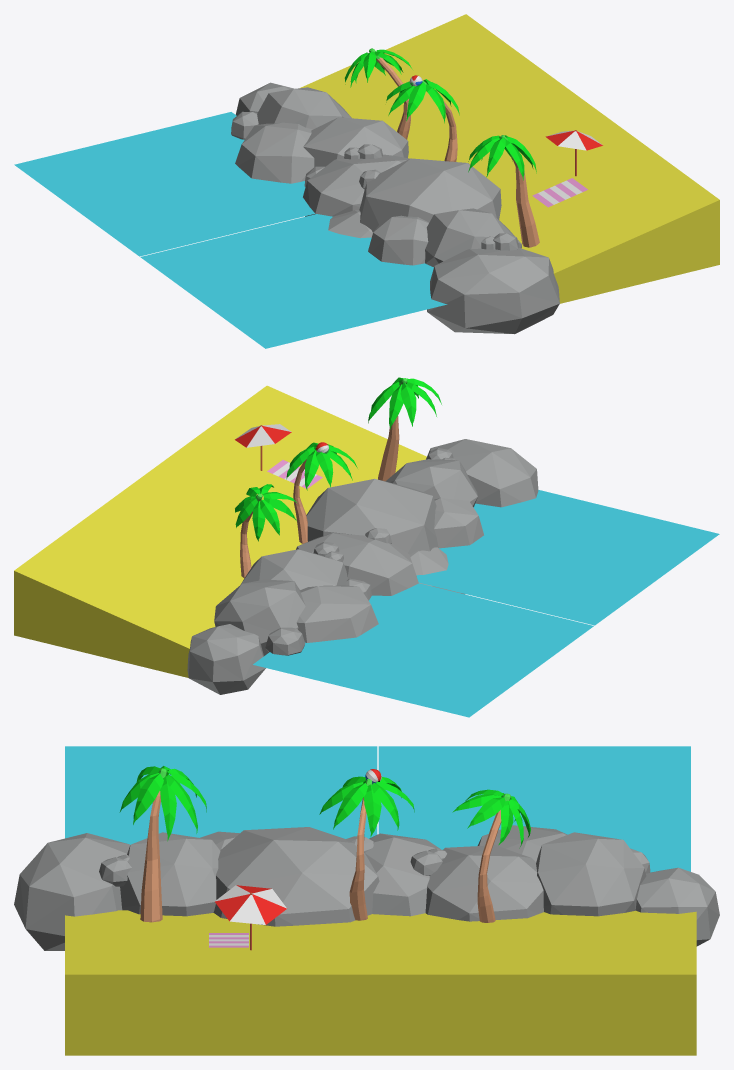
The model's file is shaderAssignmentAssets.fbx.
3 views of the same model, one above another, from view 1: azimuth 30°, elevation 25°; view 2: azimuth 150°, elevation 25°; view 3: azimuth 270°, elevation 25° (orthographic). The views are drawn at different scales.
Parts seen in each view (by area): view 1: beach, Plane.003, Plane.001, Cube.001, Cube.003, Cube.007, Cube.006, Cube.008, Cube, stone, Cube.002, tree.002 (+11 smaller); view 2: beach, Plane.003, Plane.001, Cube.003, stone.001, Cube.001, stone, Cube.006, Cube.007, Cube.008, Cube, Cube.002 (+12 smaller); view 3: beach, Plane.003, Plane.001, Cube.003, Cube.001, stone, Cube.008, Cube, Cube.006, stone.001, Sphere, tree.002 (+12 smaller).
Part boxes in pixels (bbox=[...]): beach: bbox=[300, 14, 719, 303]; Plane.003: bbox=[14, 112, 314, 256]; Plane.001: bbox=[140, 214, 447, 348]; Cube.001: bbox=[427, 247, 559, 334]; Cube.003: bbox=[359, 158, 501, 232]; Cube.007: bbox=[235, 122, 314, 183]; Cube.006: bbox=[303, 154, 409, 216]; Cube.008: bbox=[303, 117, 408, 166]; Cube: bbox=[425, 208, 521, 267]; stone: bbox=[257, 87, 351, 129]; Cube.002: bbox=[368, 215, 428, 265]; tree.002: bbox=[500, 135, 539, 247]; beach: bbox=[14, 385, 426, 677]; Plane.003: bbox=[253, 583, 593, 717]; Plane.001: bbox=[416, 490, 719, 625]; Cube.003: bbox=[306, 478, 438, 554]; stone.001: bbox=[187, 624, 265, 694]; Cube.001: bbox=[426, 439, 538, 507]; stone: bbox=[214, 579, 305, 655]; Cube.006: bbox=[296, 533, 418, 595]; Cube.007: bbox=[296, 585, 378, 642]; Cube.008: bbox=[240, 549, 347, 589]; Cube: bbox=[385, 459, 477, 507]; Cube.002: bbox=[434, 498, 483, 548]; beach: bbox=[65, 910, 696, 1055]; Plane.003: bbox=[378, 746, 690, 872]; Plane.001: bbox=[65, 746, 377, 844]; Cube.003: bbox=[213, 827, 379, 926]; Cube.001: bbox=[14, 833, 129, 950]; stone: bbox=[536, 832, 646, 916]; Cube.008: bbox=[425, 845, 543, 921]; Cube: bbox=[120, 832, 220, 916]; Cube.006: bbox=[365, 833, 440, 916]; stone.001: bbox=[635, 867, 719, 946]; Sphere: bbox=[214, 885, 286, 924]; tree.002: bbox=[140, 768, 166, 922].
Bounding box in the file's own units: 859 × 330 × 929.
